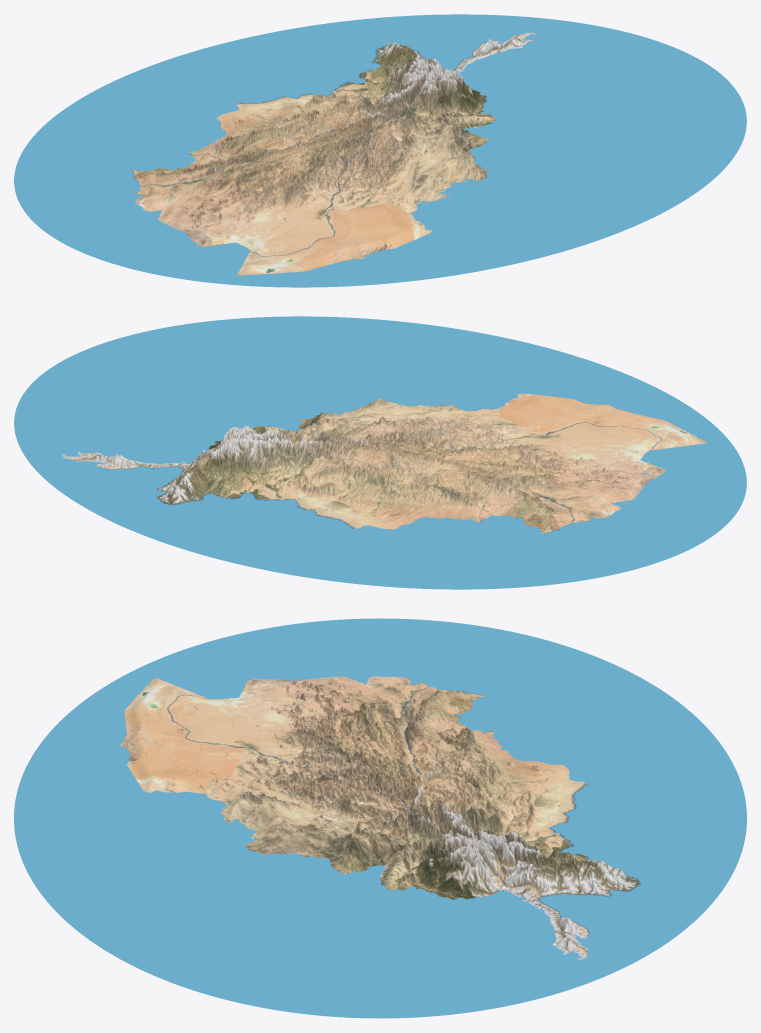
File: AFG-previa-terrain.glb
3 renders of one model, top to bottom at view 1: azimuth 30°, elevation 25°; view 2: azimuth 150°, elevation 25°; view 3: azimuth 270°, elevation 25°, orthographic. The views are drawn at different scales.
Visible parts, largest first — view 1: Afeganistão; view 2: Afeganistão; view 3: Afeganistão.
Part boxes in pixels (box(x1,y1,x2,y2)): Afeganistão: box(14, 14, 746, 287); Afeganistão: box(14, 316, 746, 589); Afeganistão: box(14, 618, 746, 1018).
Size of the model in its own units: 2.42 by 0.1009 by 1.88.
Materials: 1 (1 with a texture image).
